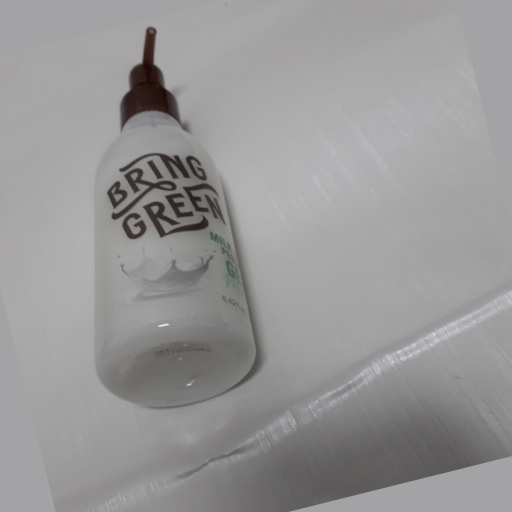Plastic_3: (93, 24, 259, 407)
